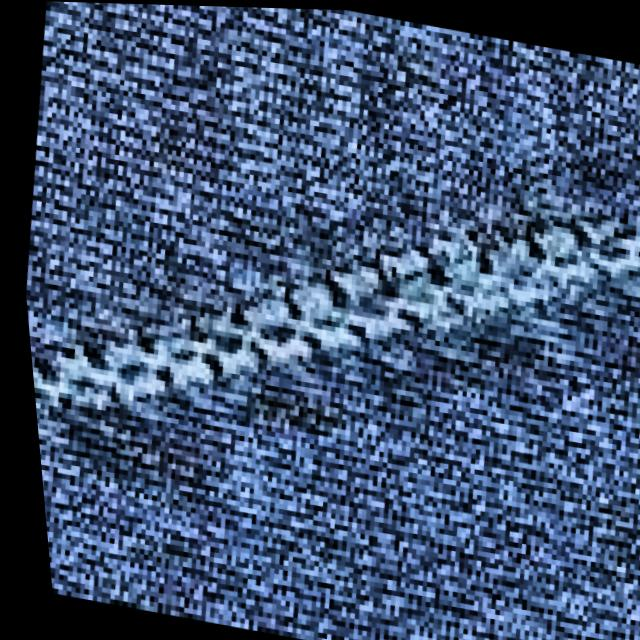seam: (6, 85, 640, 512)
